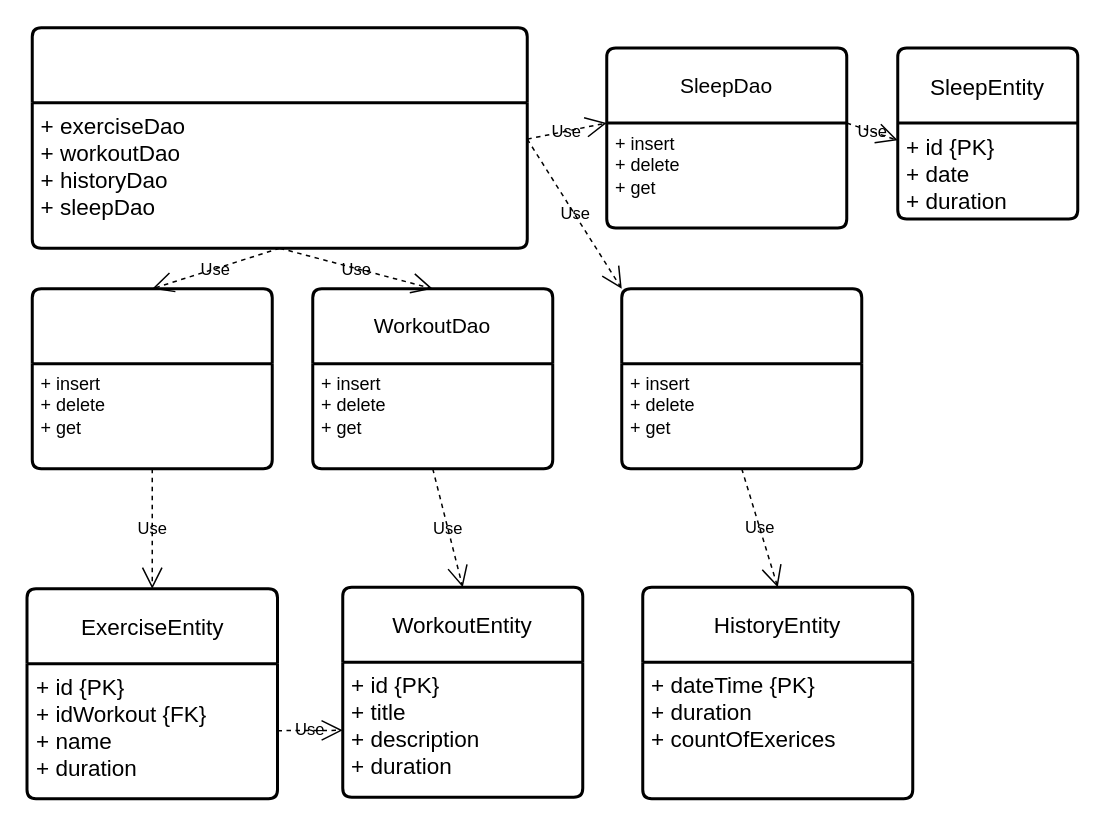
Some shapes in this 1106 by 834 pixel diagram are drawn without their labels. The shapes that lost their labels are listed below. From the top down, each one's box as (x1, y1, x2, y2) in pixels, then its label:
(30, 26, 528, 249): AppDatabase
(30, 286, 273, 470): ExerciseDao
(620, 286, 862, 470): HistoryDao
